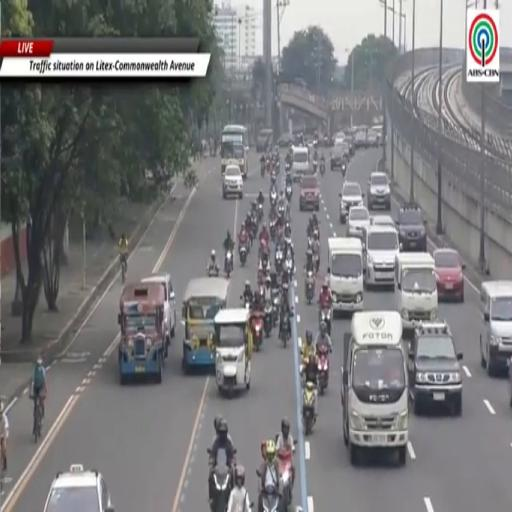bus: (221, 125, 248, 179)
car: (409, 322, 462, 415), (44, 464, 114, 511), (141, 274, 176, 347), (433, 248, 465, 301), (397, 203, 427, 251), (339, 182, 363, 223), (366, 172, 391, 210), (347, 206, 369, 238), (300, 176, 320, 211), (223, 165, 243, 199), (256, 128, 273, 152), (370, 215, 395, 227), (331, 146, 343, 170), (354, 129, 367, 149), (372, 124, 383, 145), (340, 140, 350, 161), (278, 133, 292, 148), (367, 130, 379, 147), (346, 135, 354, 156), (334, 132, 345, 145)
jeepney: (119, 283, 166, 383), (182, 278, 229, 373), (215, 309, 253, 397)
motorcycle: (210, 458, 232, 511), (278, 451, 292, 507), (302, 382, 315, 435), (318, 345, 329, 394), (251, 312, 263, 351), (262, 485, 280, 511), (319, 308, 332, 334), (264, 301, 273, 338), (280, 316, 290, 347), (272, 290, 280, 326), (306, 270, 314, 305), (274, 249, 284, 273), (285, 255, 294, 280), (225, 250, 233, 278), (239, 245, 247, 266), (207, 264, 219, 277), (240, 296, 250, 310), (257, 268, 265, 285), (313, 252, 319, 273), (270, 189, 277, 206), (312, 226, 320, 240), (277, 223, 284, 239), (270, 219, 275, 241), (278, 203, 285, 217), (341, 162, 347, 178), (286, 185, 292, 201), (258, 203, 263, 221), (320, 163, 325, 177), (271, 168, 276, 181), (266, 158, 270, 173), (285, 162, 291, 171), (313, 160, 317, 172), (276, 158, 279, 173), (261, 163, 264, 178)
truck: (341, 312, 408, 466), (328, 237, 363, 312)
